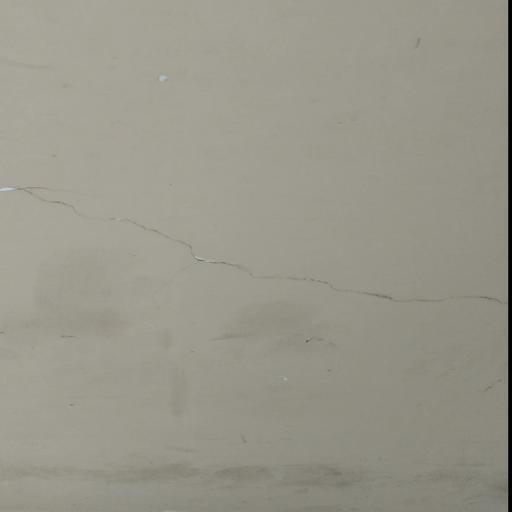minor_crack: (0, 165, 512, 321)
